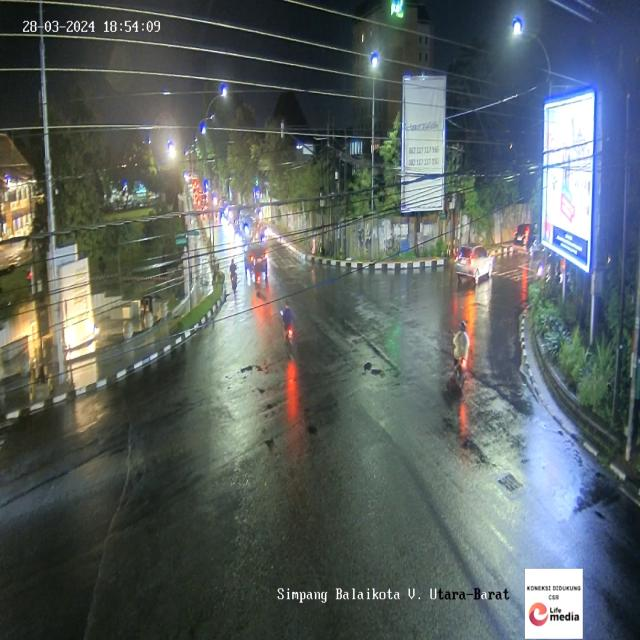car: (456, 240, 490, 282), (243, 240, 270, 280), (514, 223, 542, 260)
motorcycle: (452, 320, 471, 394), (282, 303, 296, 352), (230, 258, 238, 295)
